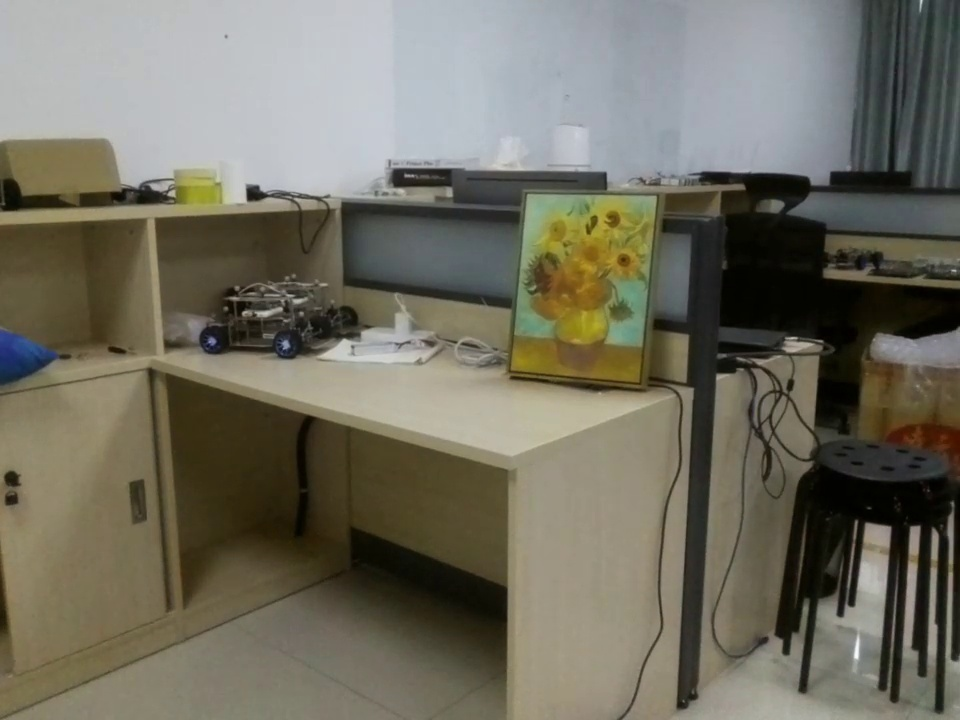painting: (507, 187, 666, 390)
